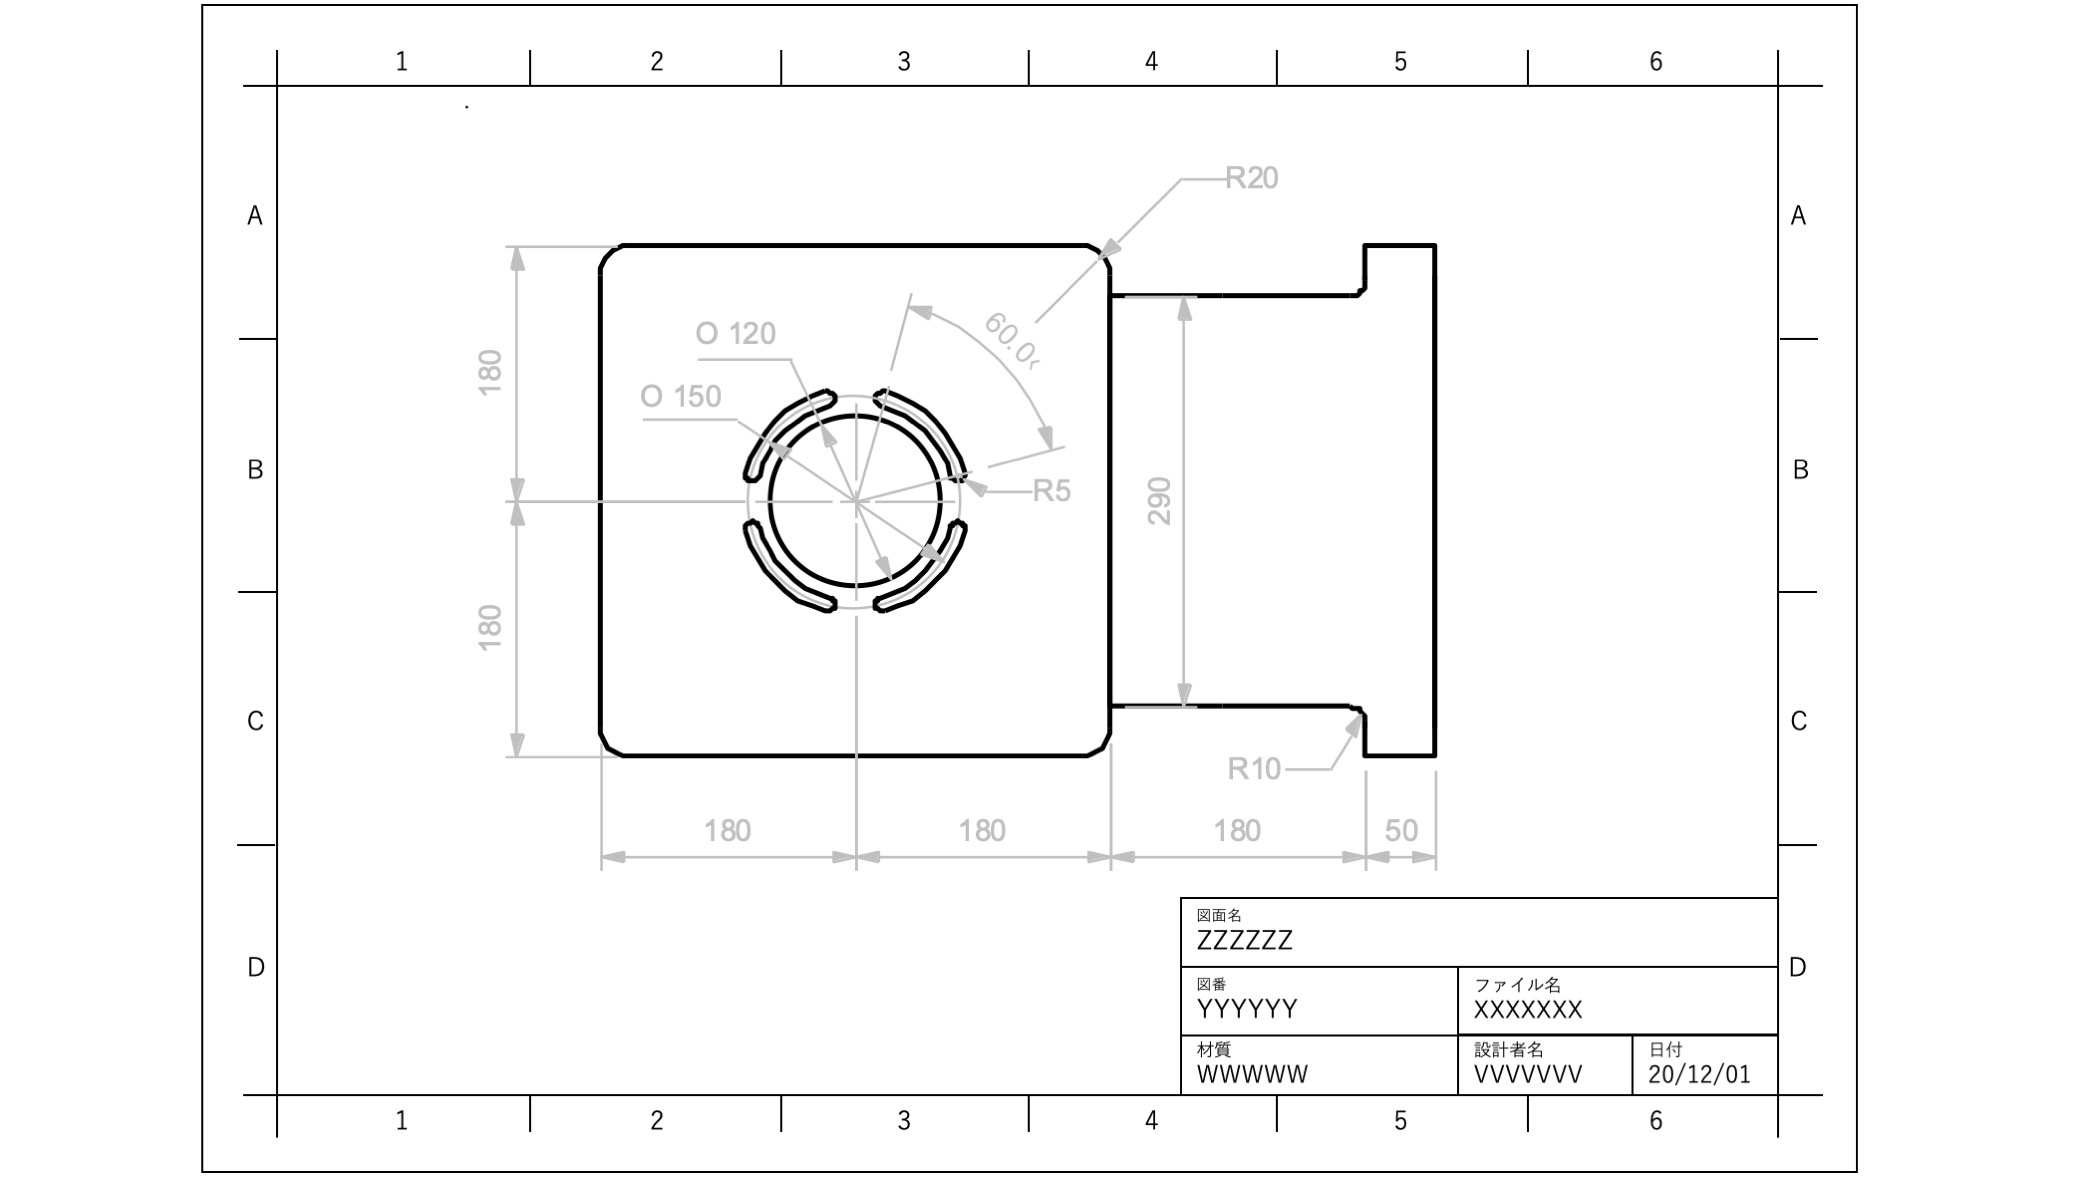circle: (759, 415, 950, 593)
round_rectangle: (733, 381, 842, 486), (871, 510, 972, 616), (871, 382, 975, 482), (738, 515, 842, 614)
